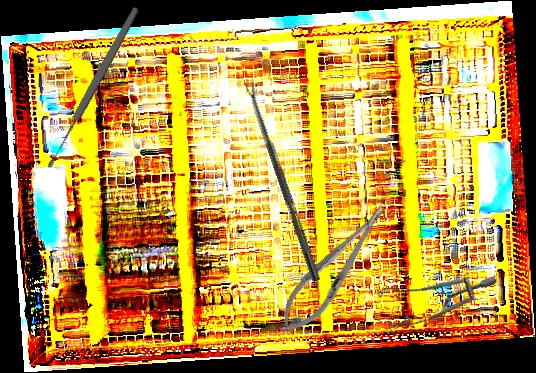Needle Holder: (267, 194, 400, 346)
Speculum: (363, 225, 498, 359)
Surgical Spoon: (43, 4, 142, 171), (244, 80, 322, 283)
